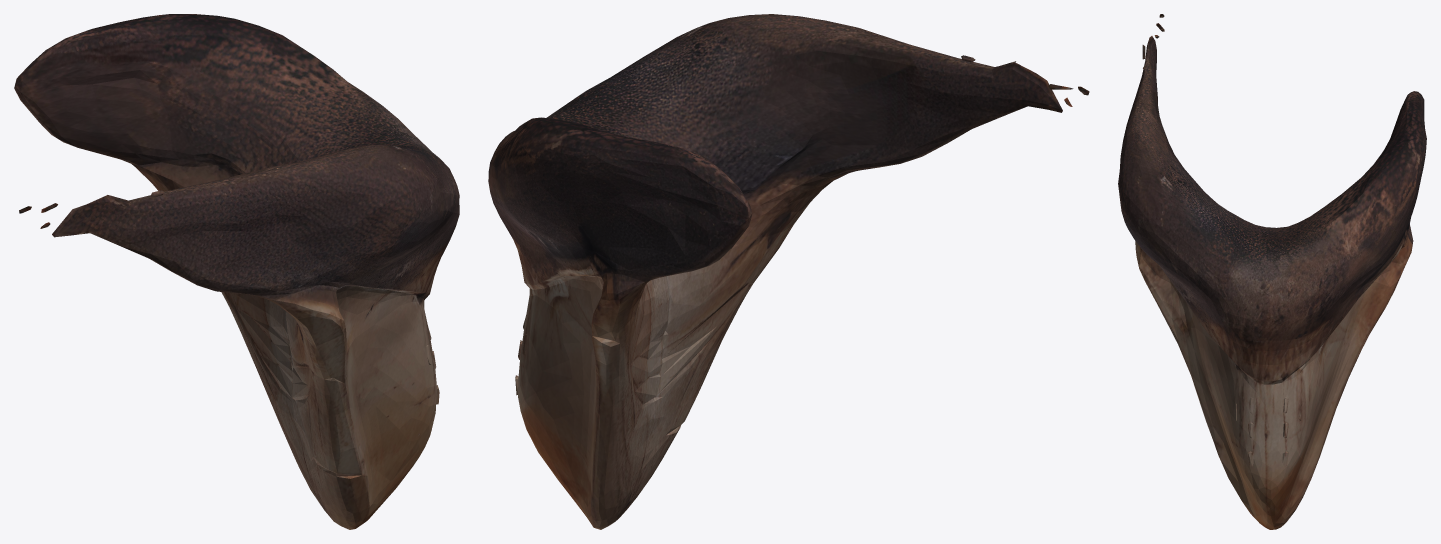
Rendered from shark_fossils_001.glb.
3 renders of one model, left to right at view 1: azimuth 30°, elevation 25°; view 2: azimuth 150°, elevation 25°; view 3: azimuth 270°, elevation 25°, orthographic. The views are drawn at different scales.
Visible parts, largest first — view 1: tripo_node_94db9fc2-c8a5-4580-8453-810d57d0b078; view 2: tripo_node_94db9fc2-c8a5-4580-8453-810d57d0b078; view 3: tripo_node_94db9fc2-c8a5-4580-8453-810d57d0b078.
Part boxes in pixels (x1,y1,x2,y2): tripo_node_94db9fc2-c8a5-4580-8453-810d57d0b078: [14, 14, 459, 529]; tripo_node_94db9fc2-c8a5-4580-8453-810d57d0b078: [488, 14, 1089, 529]; tripo_node_94db9fc2-c8a5-4580-8453-810d57d0b078: [1118, 14, 1426, 529].
Bounding box in the file's own units: 0.9476 × 0.871 × 0.6646.
1 material, 1 textured.
